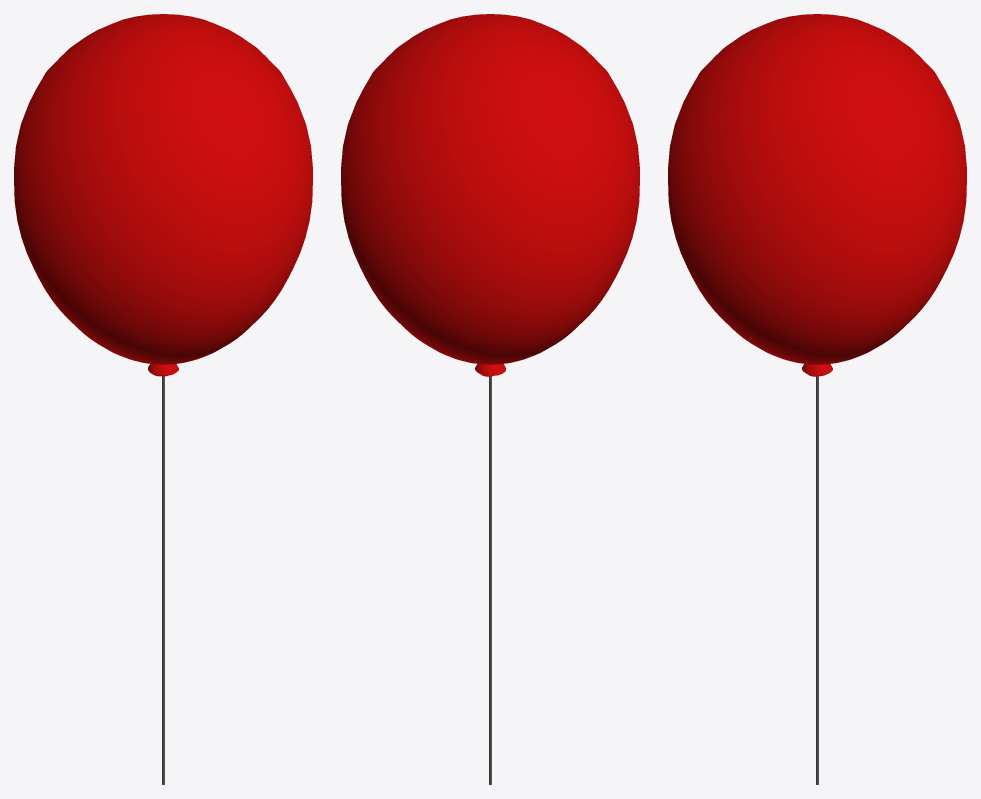
Rendered from balloon.fbx.
The picture shows the model from 3 angles, left to right: view 1: azimuth 30°, elevation 25°; view 2: azimuth 150°, elevation 25°; view 3: azimuth 270°, elevation 25°; orthographic projection.
Parts seen in each view (by area): view 1: pSphere1, pCylinder1; view 2: pSphere1, pCylinder1; view 3: pSphere1, pCylinder1.
Boxes of the visible parts, x1,y1,x2,y2 form: pSphere1: [14, 14, 312, 364]; pCylinder1: [162, 376, 164, 784]; pSphere1: [341, 14, 639, 364]; pCylinder1: [489, 376, 491, 784]; pSphere1: [668, 14, 966, 364]; pCylinder1: [816, 376, 818, 784].
Bounding box in the file's own units: 2.12 × 5.89 × 2.11.
